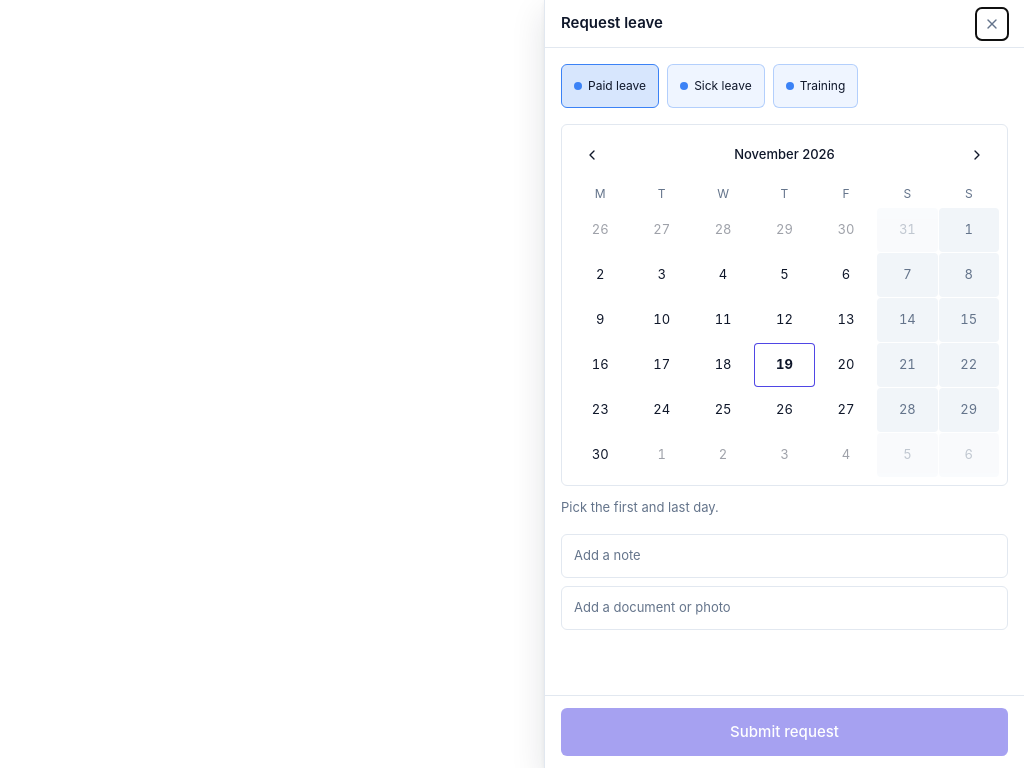
RequestSheet › counts the days live with the shared rule after two taps
Check: the button "Submit request" is disabled, box [561, 708, 1008, 756]
Click the button "16" at {"x": 600, "y": 365}, box [570, 343, 630, 387]
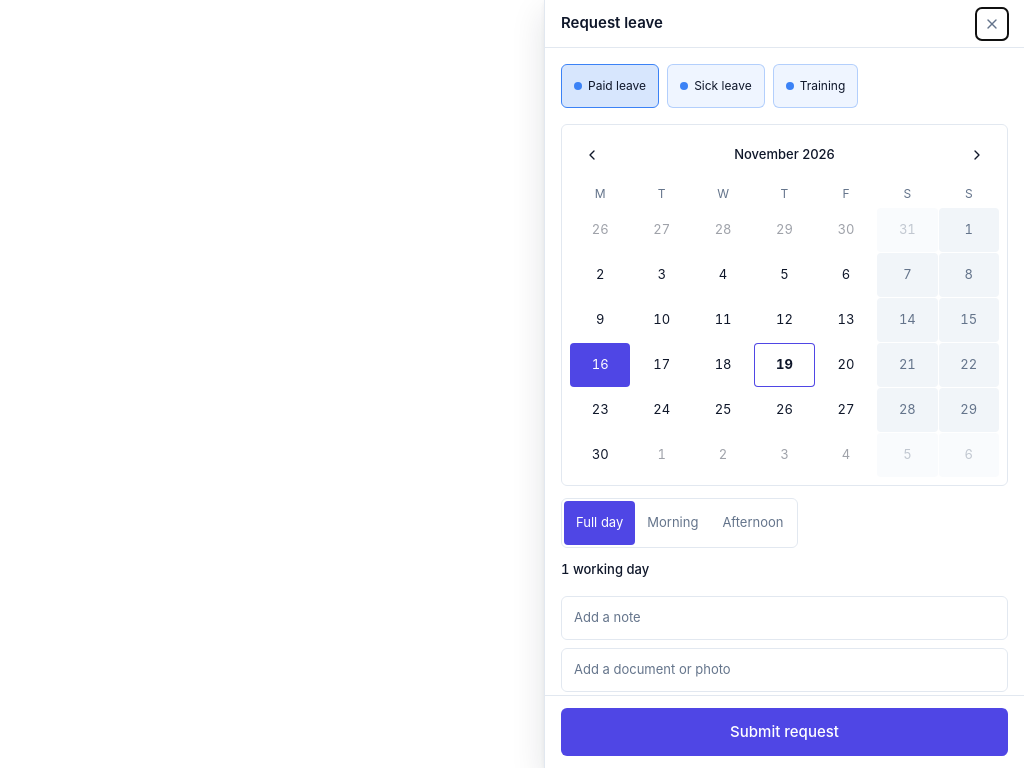
Click the button "17" at {"x": 662, "y": 365}, box [631, 343, 692, 387]
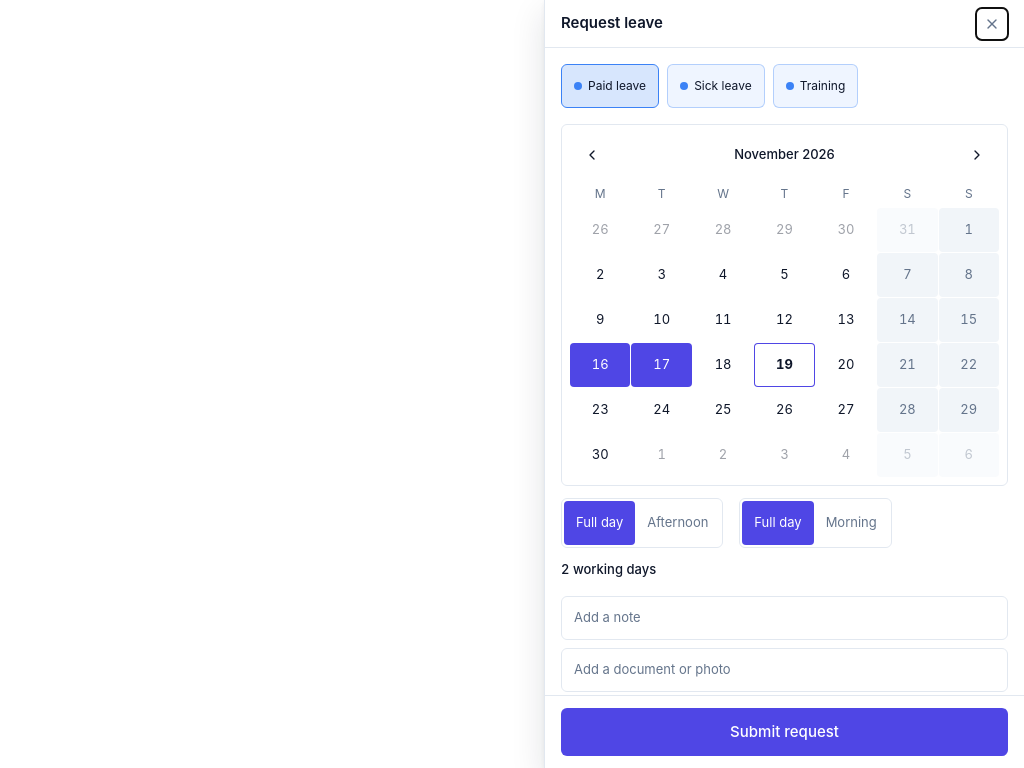
Check: the button "Submit request" is enabled, box [561, 708, 1008, 756]
Check: the text "2 working days" is shown, box [561, 561, 656, 577]
